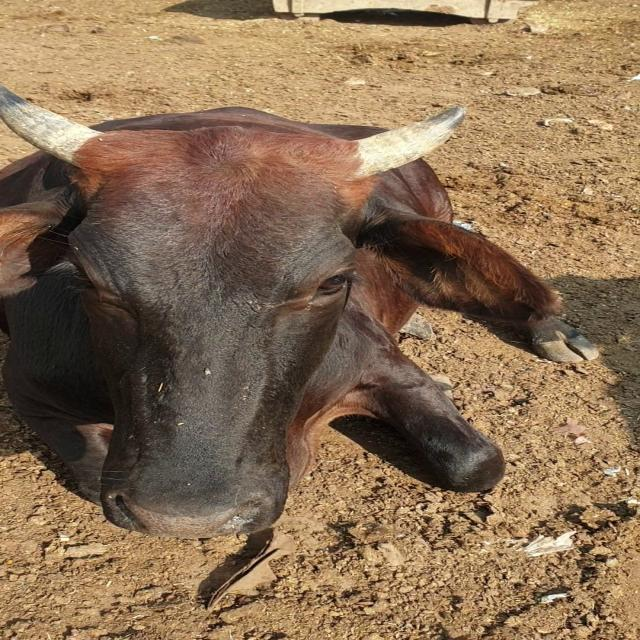cowFace: (31, 134, 385, 551)
